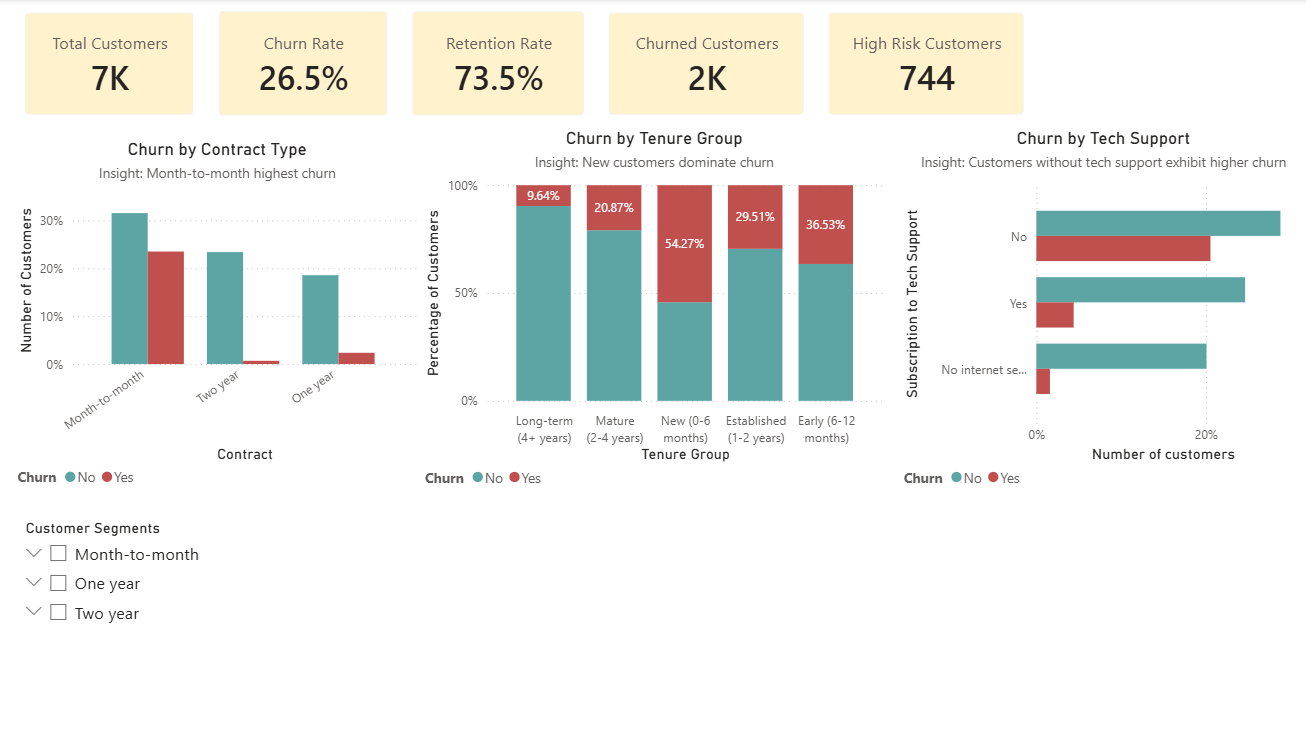

The page's visual inventory and layout, read from the dashboard file:
{"tool":"powerbi","page":{"name":"Page 1","canvas":[1280,720],"ordinal":0},"visuals":[{"type":"cardVisual","fields":{"Data":["churn_clean.Total Customers"]},"box":[12.3,1.4,189.4,124.9],"z":0},{"type":"cardVisual","fields":{"Data":["churn_clean.Churn Rate %"]},"box":[201.7,0,189.4,126.2],"z":1000},{"type":"cardVisual","fields":{"Data":["churn_clean.Retention Rate %"]},"box":[391.1,0,192.1,126.2],"z":2000},{"type":"cardVisual","fields":{"Data":["churn_clean.Churned Customers"]},"box":[583.2,1.4,215.4,124.9],"z":3000},{"type":"cardVisual","fields":{"Data":["churn_clean.High Risk Customers"]},"box":[798.6,1.4,215.4,124.9],"z":4000},{"type":"clusteredColumnChart","title":"Churn by Contract Type","fields":{"Category":["churn_clean.Contract"],"Series":["churn_clean.Churn"],"Y":["CountNonNull(churn_clean.customerID)"]},"box":[12.3,137.2,400.7,349.9],"z":5000},{"type":"hundredPercentStackedColumnChart","title":"Churn by Tenure Group","fields":{"Category":["churn_clean.tenure_group"],"Series":["churn_clean.Churn"],"Y":["CountNonNull(churn_clean.customerID)"]},"box":[410.3,126.2,458.3,360.9],"z":6000},{"type":"clusteredBarChart","title":"Churn by Tech Support","fields":{"Category":["churn_clean.TechSupport"],"Series":["churn_clean.Churn"],"Y":["CountNonNull(churn_clean.customerID)"]},"box":[879.6,126.2,400.7,360.9],"z":7000},{"type":"slicer","fields":{"Values":["churn_clean.Contract","churn_clean.tenure_group","churn_clean.TechSupport"]},"box":[12.3,503.6,299.1,185.2],"z":8000}]}

Visuals, with their boxes in screenshot pixels (x1, y1, x2, y2), scaled from the page's 1280x720 canvas onto the 1306x730 screenshot:
cardVisual - churn_clean.Total Customers: box=[13, 1, 206, 128]
cardVisual - churn_clean.Churn Rate %: box=[206, 0, 399, 128]
cardVisual - churn_clean.Retention Rate %: box=[399, 0, 595, 128]
cardVisual - churn_clean.Churned Customers: box=[595, 1, 815, 128]
cardVisual - churn_clean.High Risk Customers: box=[815, 1, 1035, 128]
"Churn by Contract Type" clusteredColumnChart: box=[13, 139, 421, 494]
"Churn by Tenure Group" hundredPercentStackedColumnChart: box=[419, 128, 886, 494]
"Churn by Tech Support" clusteredBarChart: box=[897, 128, 1305, 494]
slicer - churn_clean.Contract x churn_clean.tenure_group: box=[13, 511, 318, 698]
